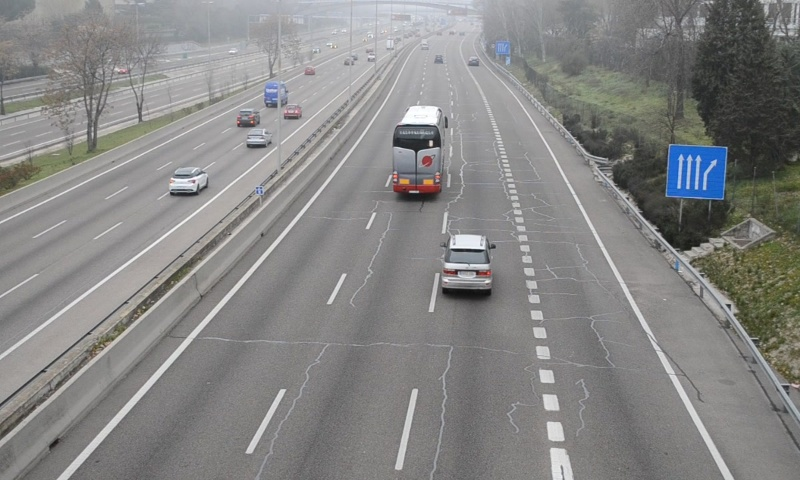bus: (392, 106, 446, 195)
car: (439, 234, 494, 292)
